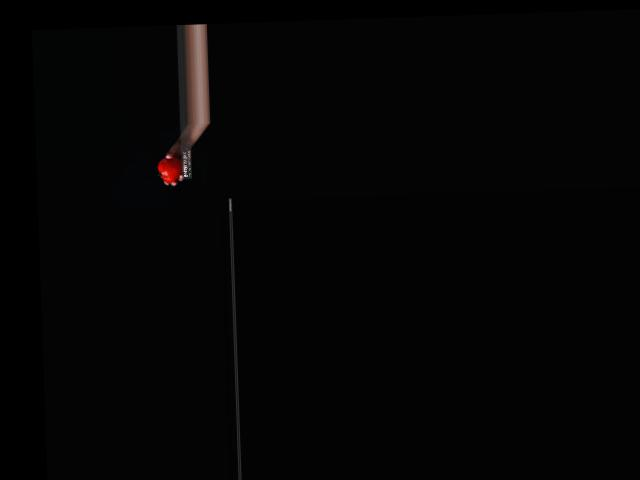tomato: (157, 157, 182, 183)
